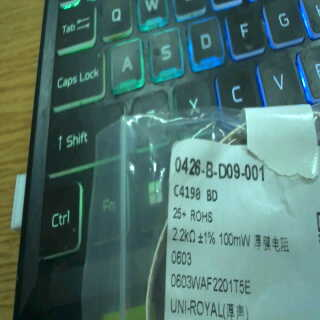2.2kR: (170, 225, 198, 245)
